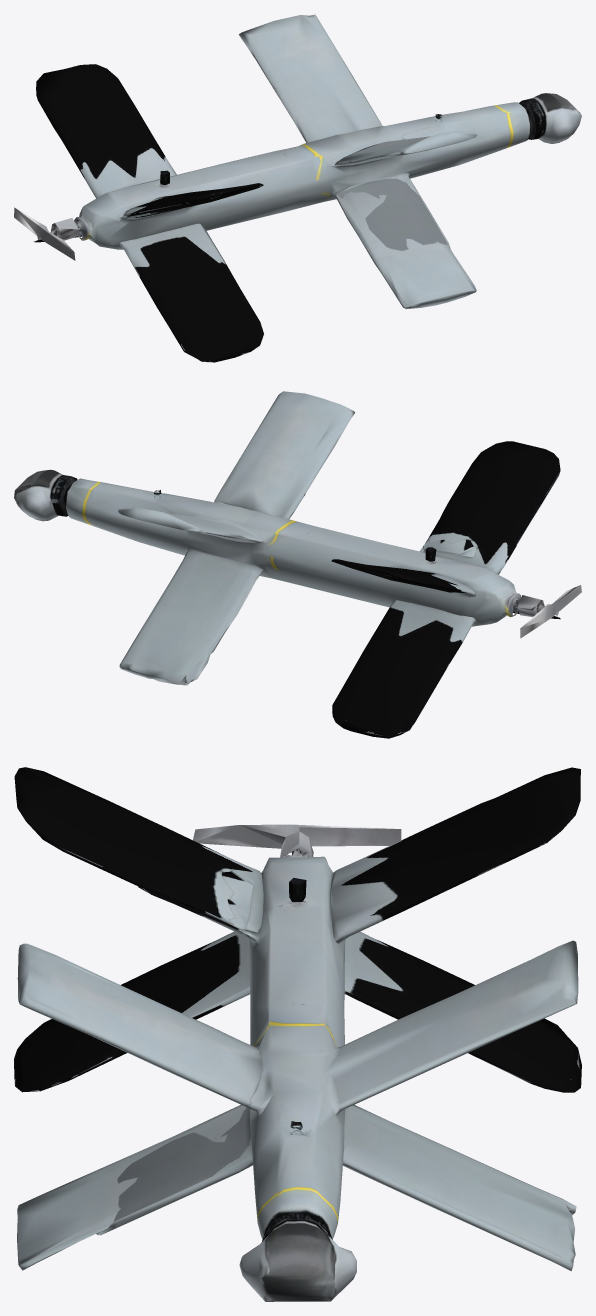
Rendered from lancet.glb.
The picture shows the model from 3 angles, top to bottom: view 1: azimuth 30°, elevation 25°; view 2: azimuth 150°, elevation 25°; view 3: azimuth 270°, elevation 25°; orthographic projection. The views are drawn at different scales.
Visible parts, largest first — view 1: g_lancet_hull, g_lancet_rotor; view 2: g_lancet_hull, g_lancet_rotor; view 3: g_lancet_hull, g_lancet_rotor.
Part boxes in pixels (left/top/right/bottom): g_lancet_hull: left=33, top=14, right=581, bottom=362; g_lancet_rotor: left=14, top=207, right=79, bottom=260; g_lancet_hull: left=14, top=391, right=560, bottom=738; g_lancet_rotor: left=515, top=585, right=581, bottom=638; g_lancet_hull: left=14, top=767, right=581, bottom=1301; g_lancet_rotor: left=193, top=824, right=401, bottom=857.
Bounding box in the file's own units: 1.65 × 0.504 × 0.8923.
2 materials, 2 textured.
